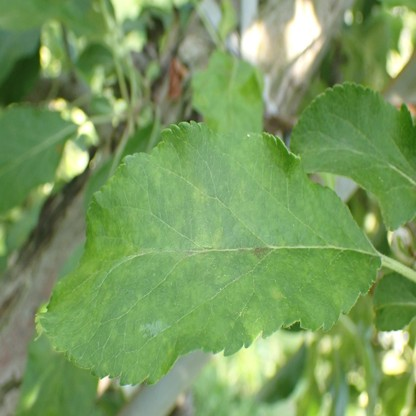scab: (43, 128, 375, 383)
